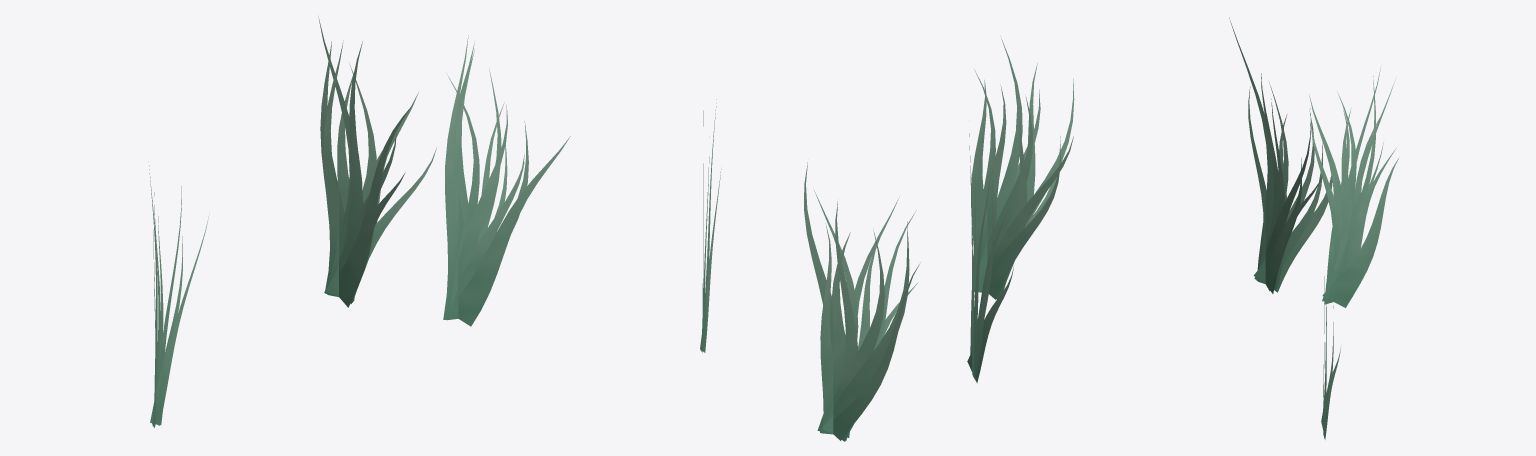
Rendered from mesh-plant-021-fanpalm-weed_LOD0.glb.
3 renders of one model, left to right at view 1: azimuth 30°, elevation 25°; view 2: azimuth 150°, elevation 25°; view 3: azimuth 270°, elevation 25°, orthographic. The views are drawn at different scales.
Visible parts, largest first — view 1: geometry_0; view 2: geometry_0; view 3: geometry_0.
Boxes of the visible parts, x1,y1,x2,y2 form: geometry_0: (148, 16, 570, 427); geometry_0: (700, 36, 1074, 441); geometry_0: (1229, 17, 1398, 439).
Bounding box in the file's own units: 1.57 × 0.9832 × 1.32.
